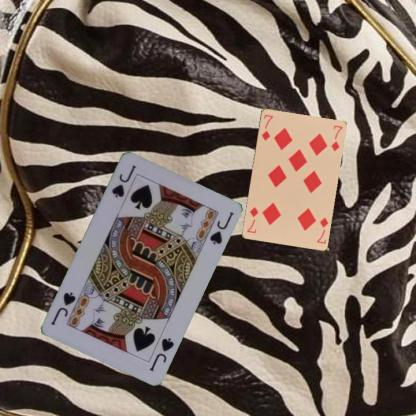7d: (314, 214, 329, 245), (259, 112, 274, 142)
Js: (109, 162, 139, 206), (147, 335, 176, 372)
